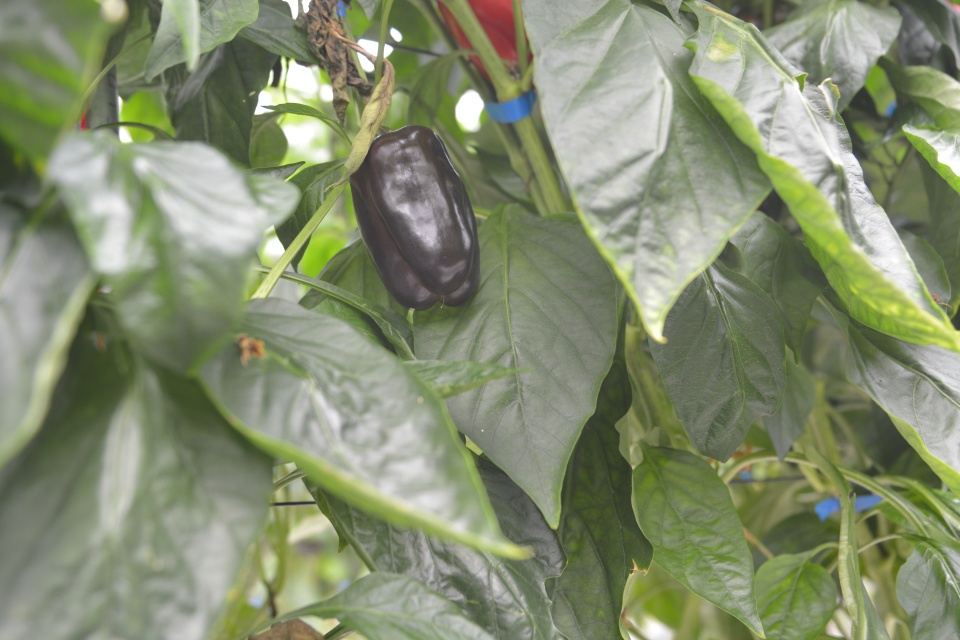fruit: (345, 124, 484, 314), (435, 2, 536, 87)
